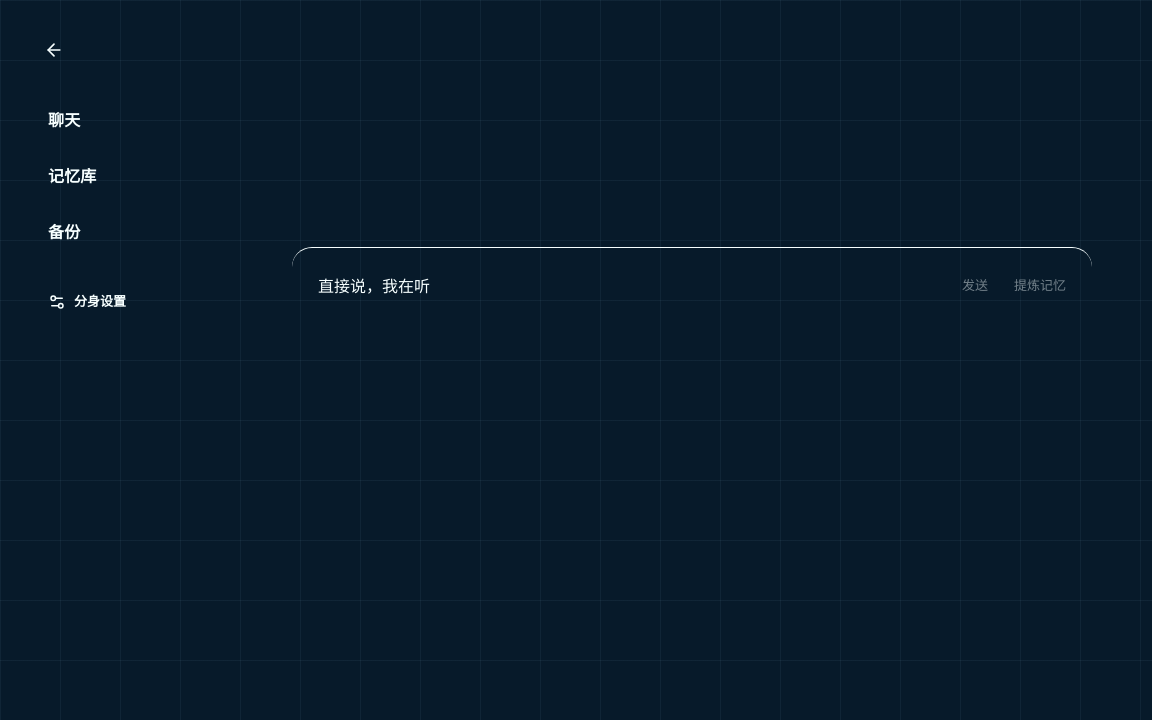
Test case: AvatarChatPage › routes choices through the model and preserves follow-ups (history: false)
Type "客户方案被否定，我要不要换工作？" into the field named "对话内容". click: [627, 286]
box: left=308, top=264, right=946, bottom=308
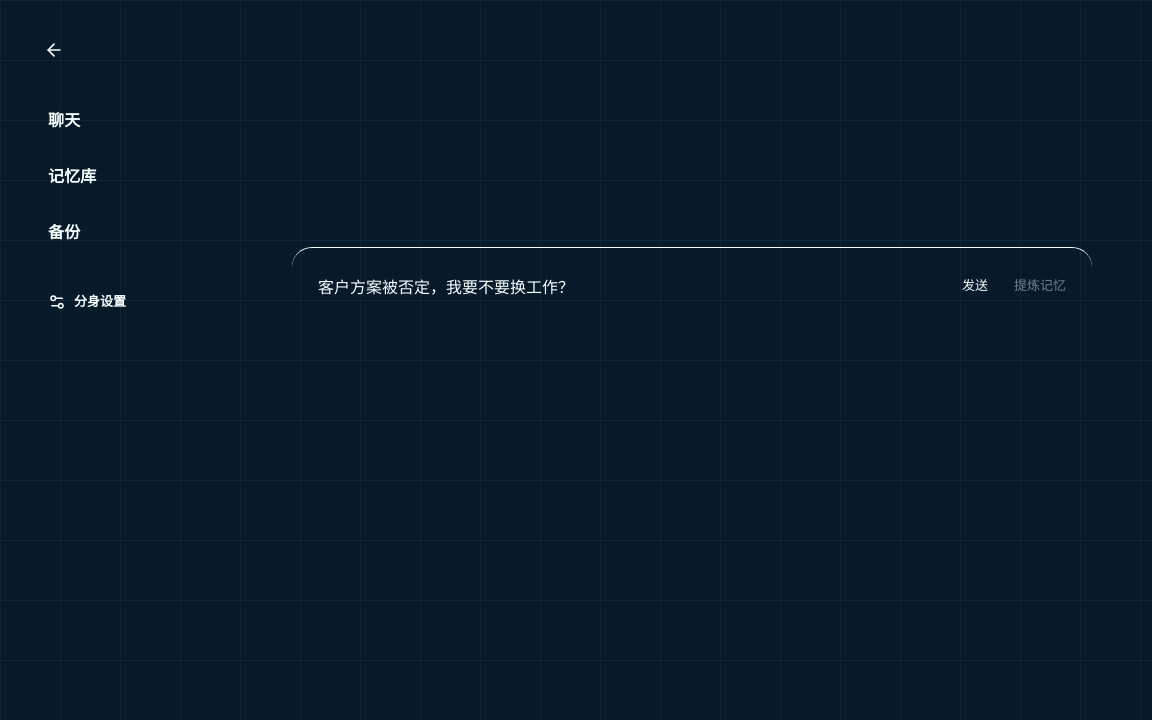
Click the button "发送". click: [975, 286]
box: left=952, top=264, right=998, bottom=308
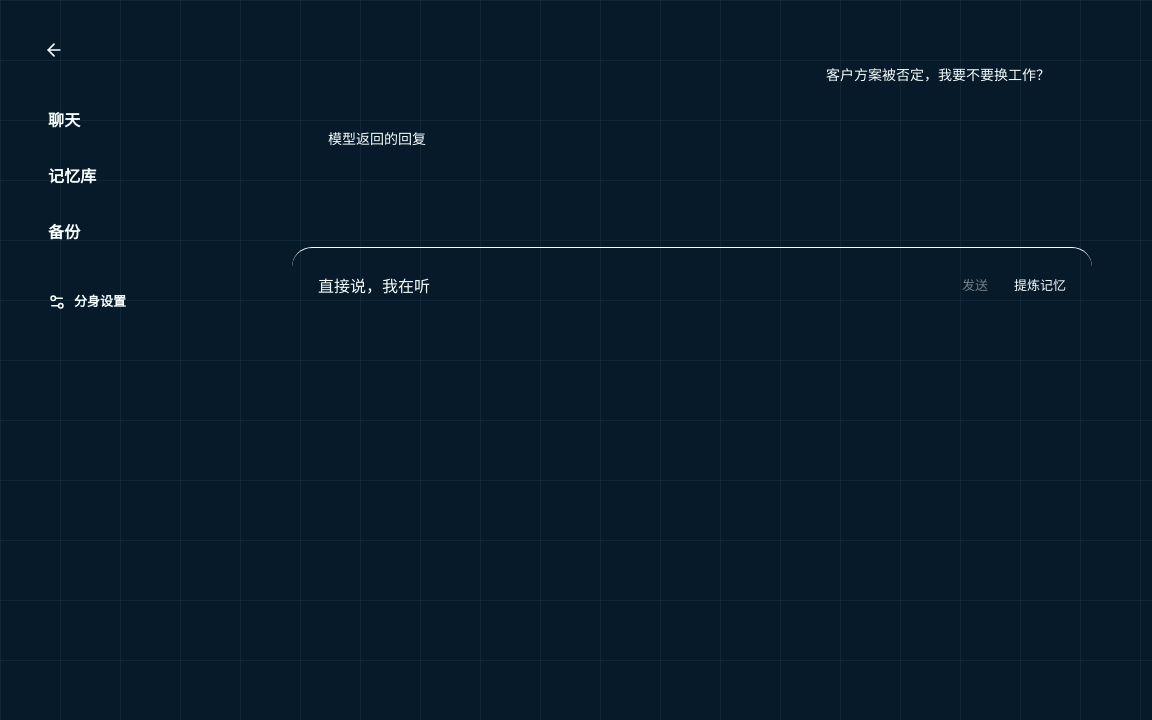
Check: the text "模型返回的回复" is shown, box left=328, top=130, right=426, bottom=147
Type "我有房贷，没有存款，先想想。" into the field named "对话内容". click: [627, 286]
box: left=308, top=264, right=946, bottom=308
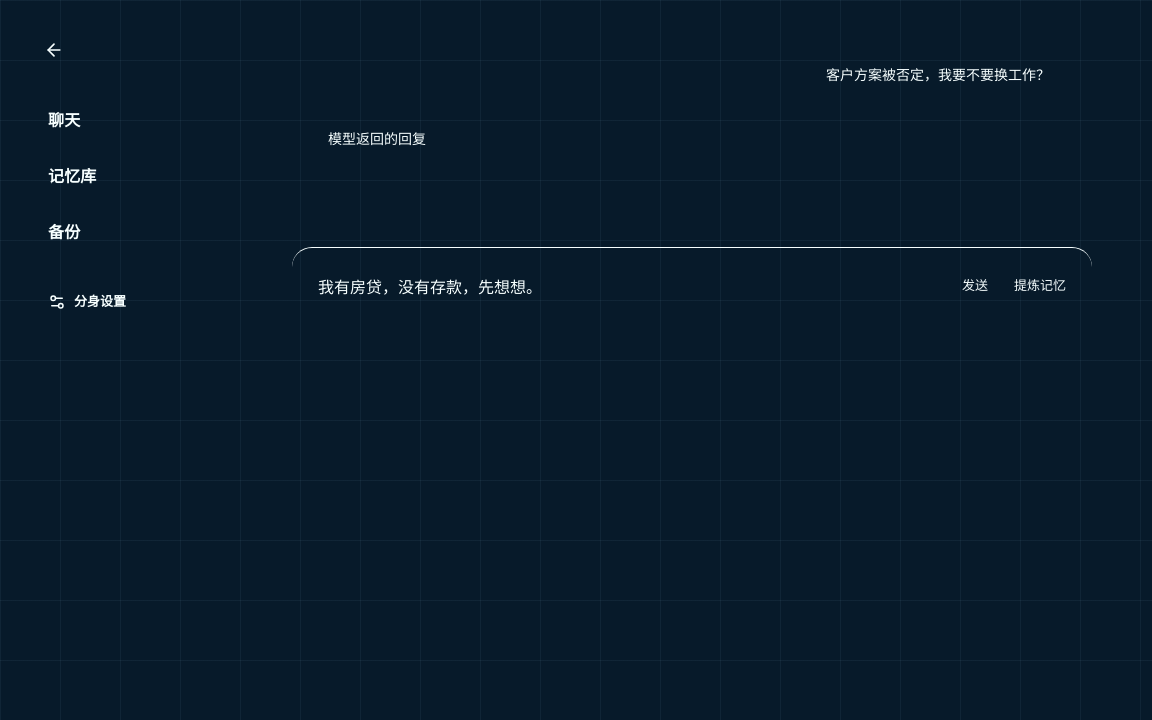
Click the button "发送". click: [975, 286]
box: left=952, top=264, right=998, bottom=308
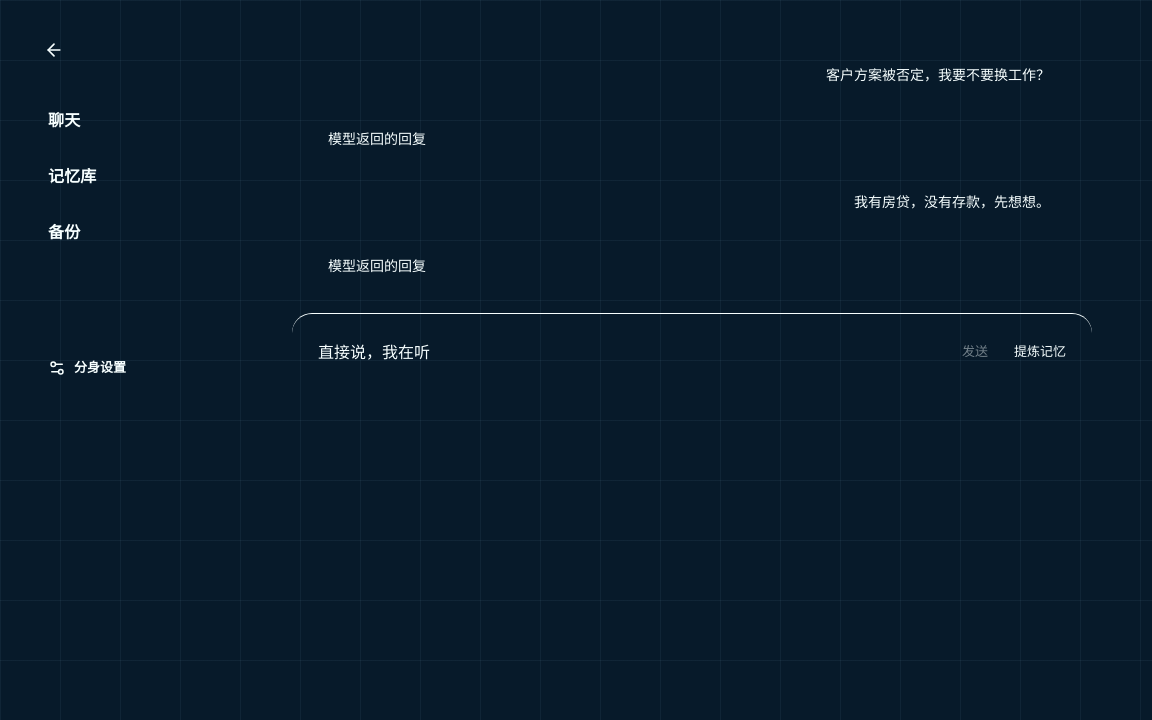
Check: the text "模型返回的回复" is shown 2 times, box left=328, top=130, right=426, bottom=147; left=328, top=257, right=426, bottom=274
